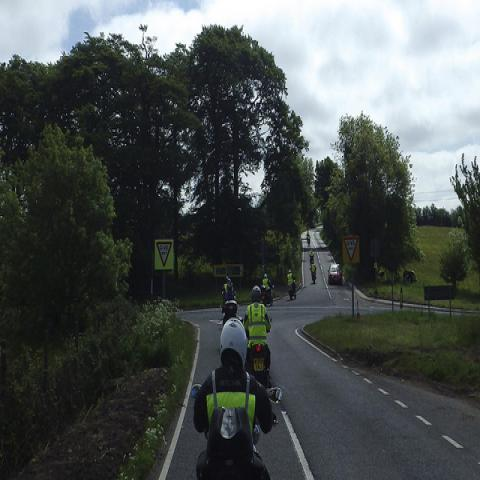car: (328, 263, 343, 284)
motorcycle: (250, 342, 269, 388), (222, 300, 242, 332), (260, 284, 274, 308), (288, 280, 296, 300), (308, 253, 316, 266), (310, 267, 316, 283), (307, 236, 310, 244)
